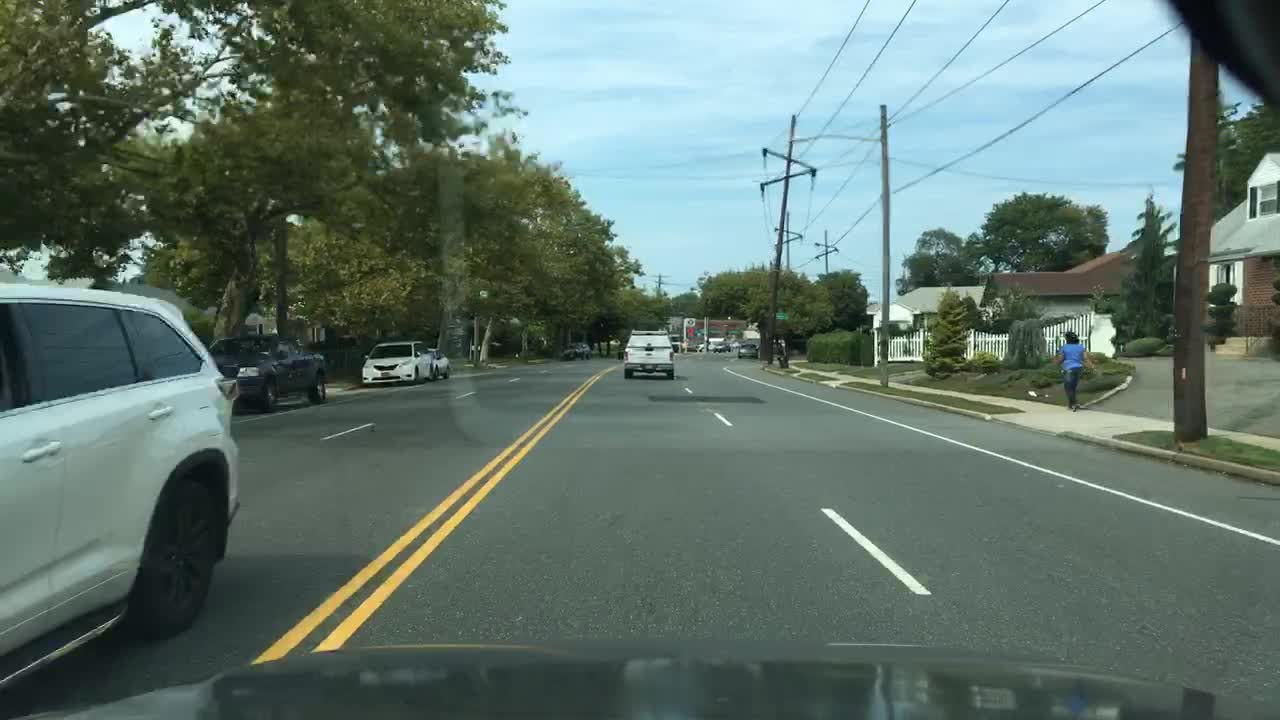car: (0, 280, 239, 697), (205, 337, 328, 412), (360, 341, 436, 384), (620, 329, 676, 378), (427, 350, 451, 378), (561, 339, 591, 359), (708, 337, 732, 354), (737, 343, 759, 359)
person: (1056, 327, 1095, 412)
